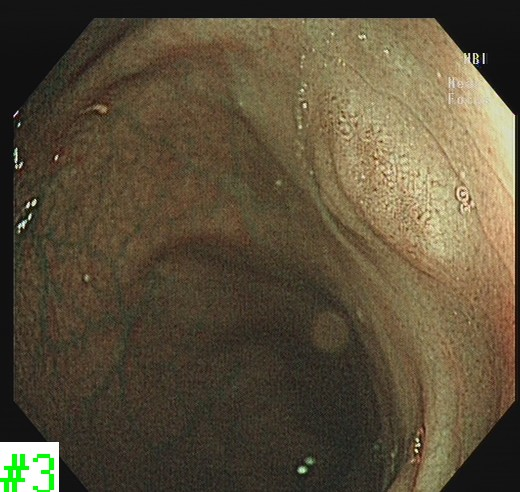adenoma: (321, 87, 455, 283)
